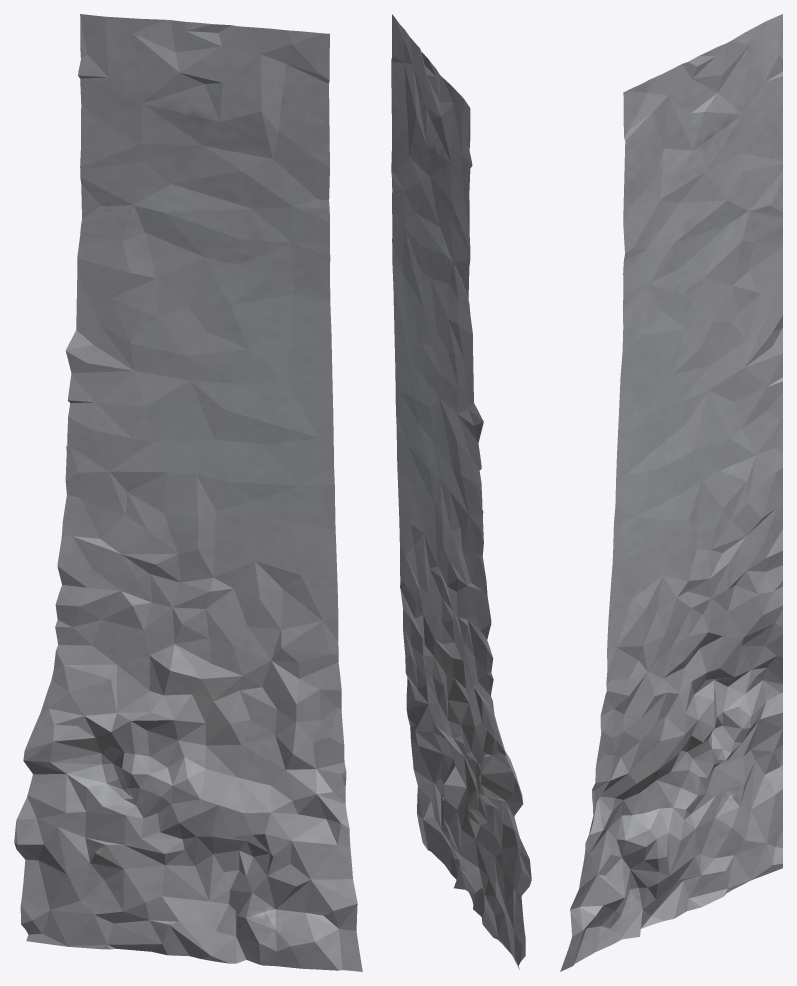
The picture shows the model from 3 angles, left to right: view 1: azimuth 30°, elevation 25°; view 2: azimuth 150°, elevation 25°; view 3: azimuth 270°, elevation 25°; orthographic projection. The views are drawn at different scales.
Bounding box in the file's own units: 0.2233 × 0.8374 × 0.1921.
Materials: 1 (1 with a texture image).
